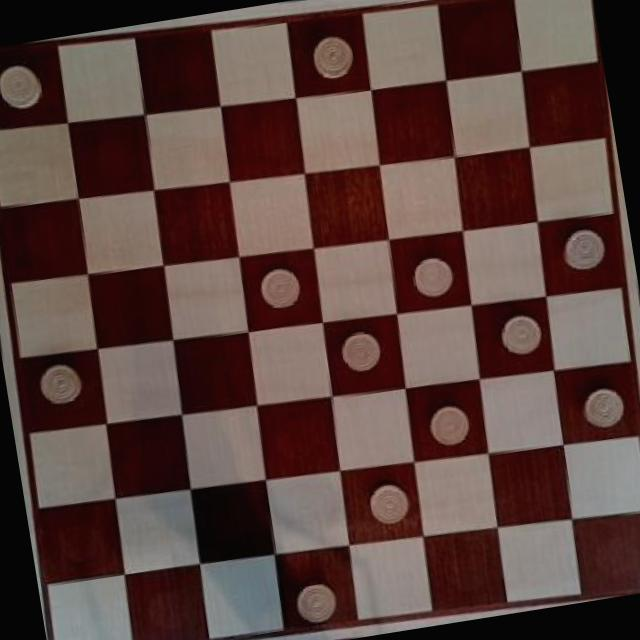BOARD: (0, 0, 640, 640)
white: (286, 570, 344, 632), (252, 258, 310, 319), (416, 394, 477, 451), (574, 378, 632, 435), (27, 356, 88, 409), (404, 248, 460, 305), (360, 476, 414, 534), (555, 226, 614, 278), (307, 28, 358, 84), (0, 53, 46, 115), (336, 326, 386, 376), (499, 310, 546, 360)
